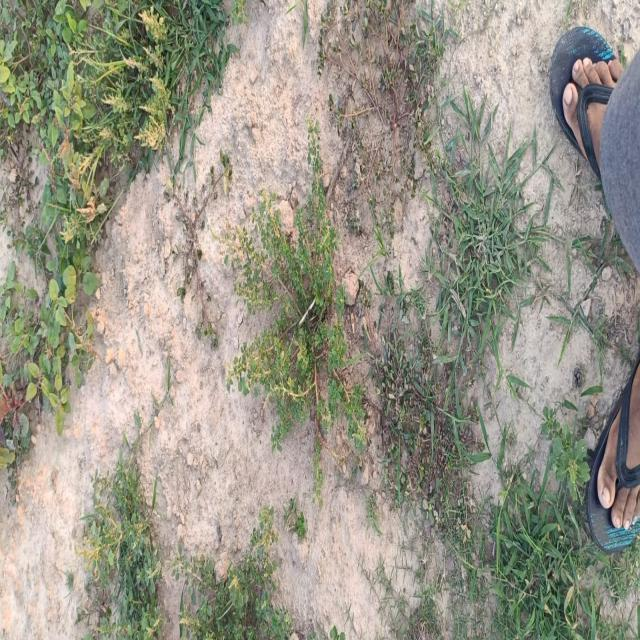plant: (226, 121, 365, 448)
